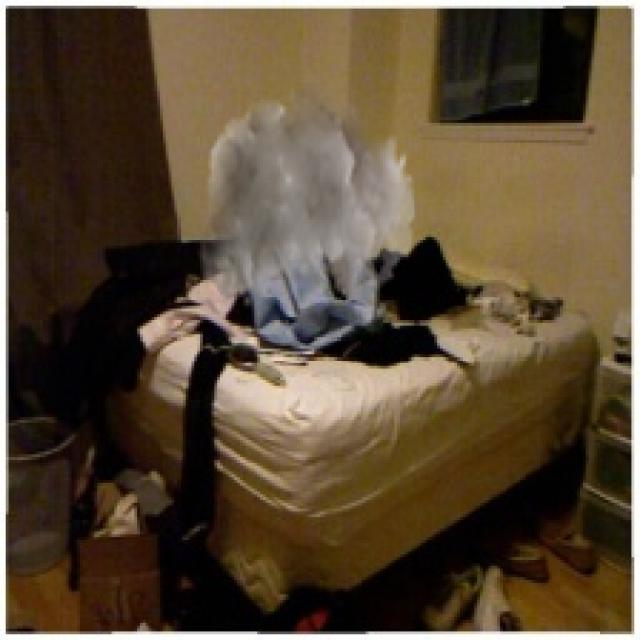smoke: (197, 72, 417, 308)
